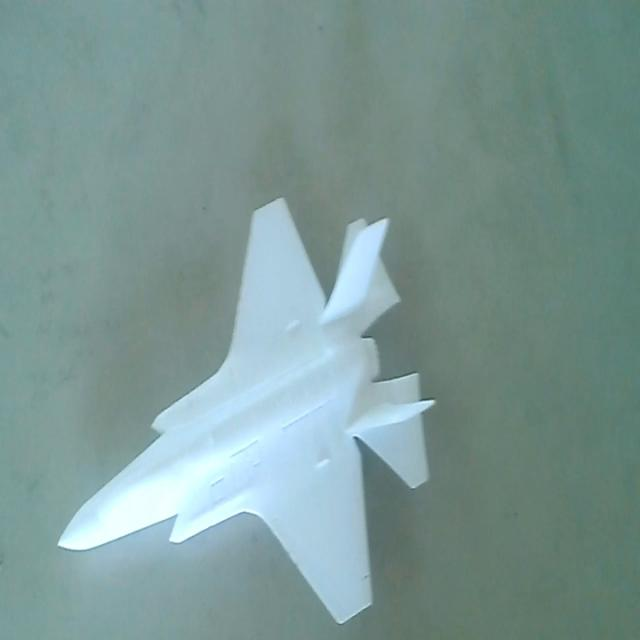Jet: (43, 194, 437, 633)
